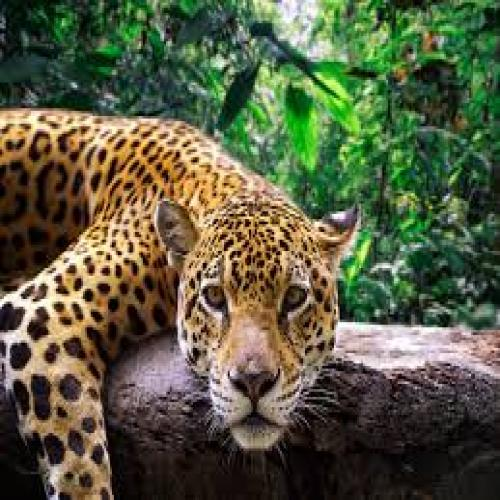jaguar_not-endangered: (0, 107, 365, 500)
